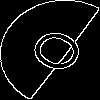O: (25, 24, 98, 83)
